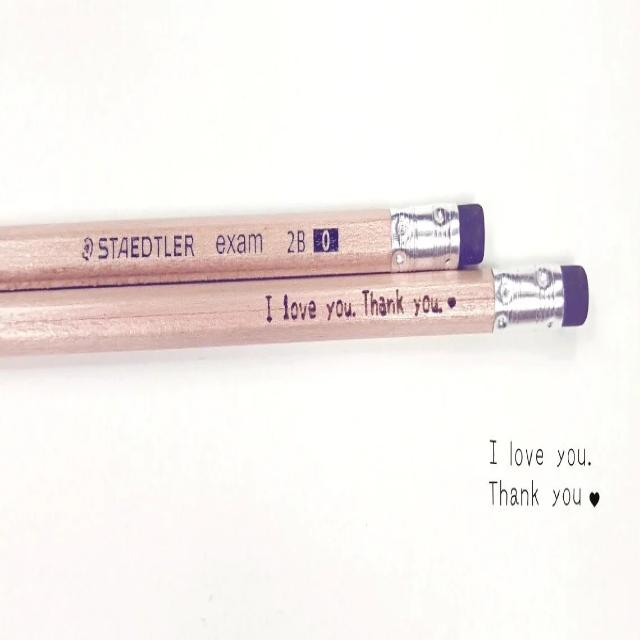pencil: (0, 264, 592, 366), (0, 197, 491, 292)
